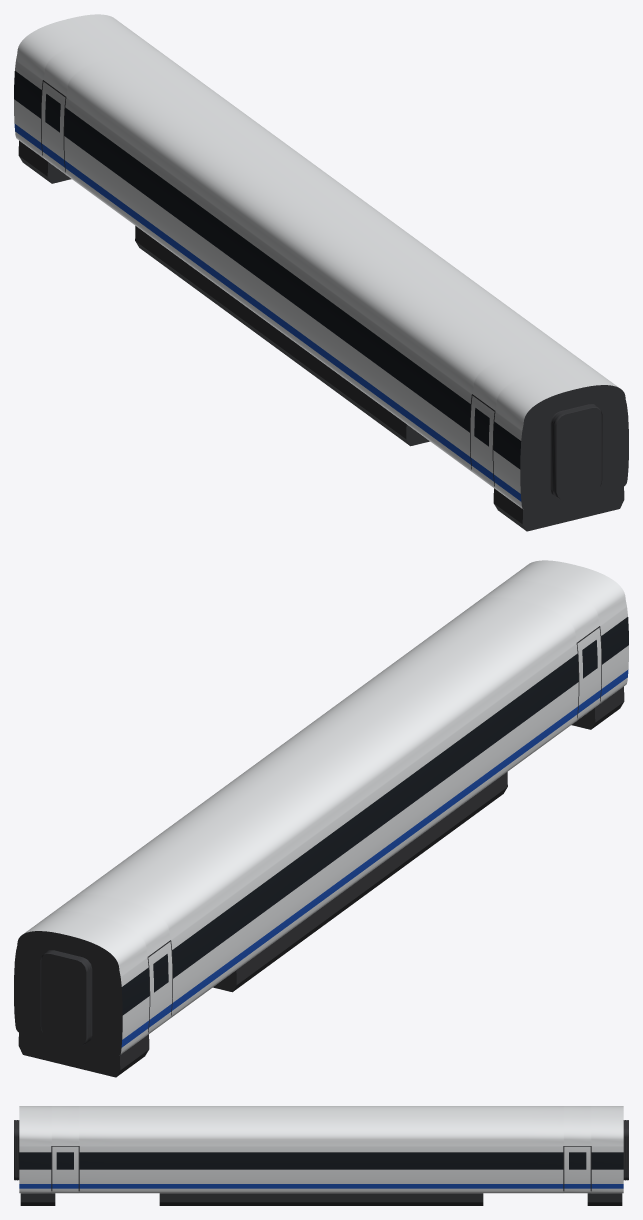
File: train-middle.glb
3 renders of one model, top to bottom at view 1: azimuth 30°, elevation 25°; view 2: azimuth 150°, elevation 25°; view 3: azimuth 270°, elevation 25°, orthographic. The views are drawn at different scales.
Parts seen in each view (by area): view 1: middle_carriage; view 2: middle_carriage; view 3: middle_carriage.
Part boxes in pixels (box(x1,y1,x2,y2)): middle_carriage: box(14, 14, 628, 531); middle_carriage: box(14, 560, 628, 1077); middle_carriage: box(14, 1106, 628, 1205).
Bounding box in the file's own units: 2.8 × 3.24 × 23.
